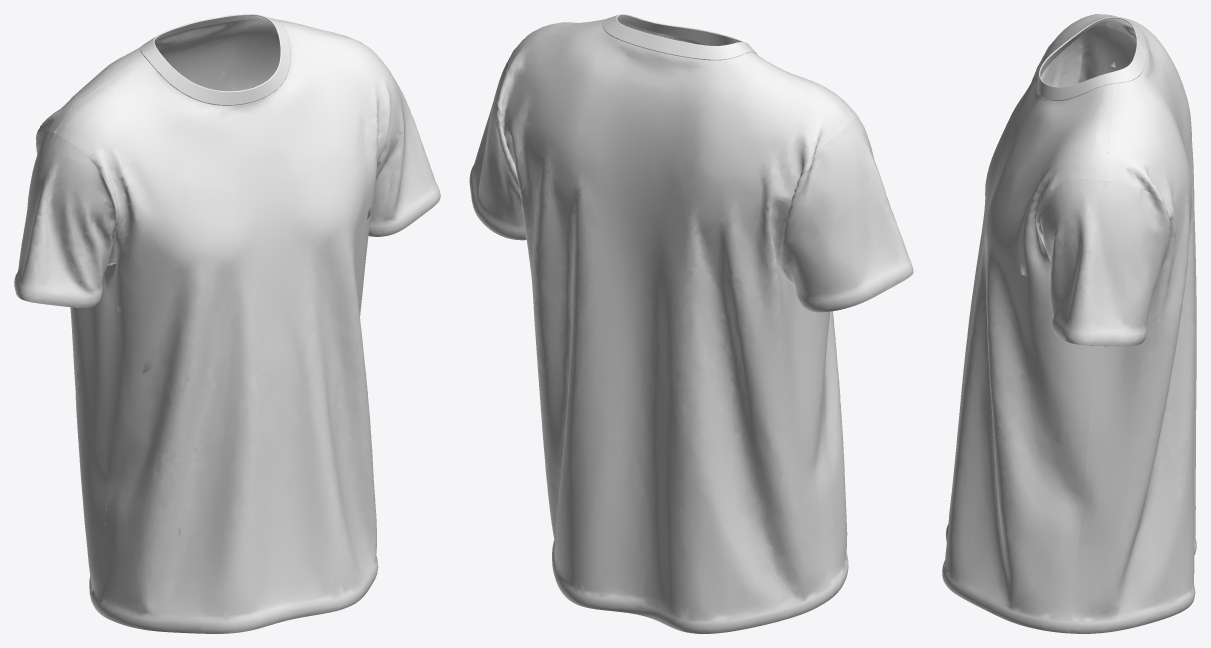
File: tee_viewer_model_v1.glb
3 views of the same model, side by side, from view 1: azimuth 30°, elevation 25°; view 2: azimuth 150°, elevation 25°; view 3: azimuth 270°, elevation 25° (orthographic). The views are drawn at different scales.
Parts seen in each view (by area): view 1: TEE_WEB_EXPORT; view 2: TEE_WEB_EXPORT; view 3: TEE_WEB_EXPORT.
Part boxes in pixels (<box>): TEE_WEB_EXPORT: <box>14,14,440,633</box>; TEE_WEB_EXPORT: <box>469,14,913,633</box>; TEE_WEB_EXPORT: <box>942,14,1196,633</box>.
Size of the model in its own units: 23.5 by 29 by 12.51.
Materials: 1 (1 with a texture image).
